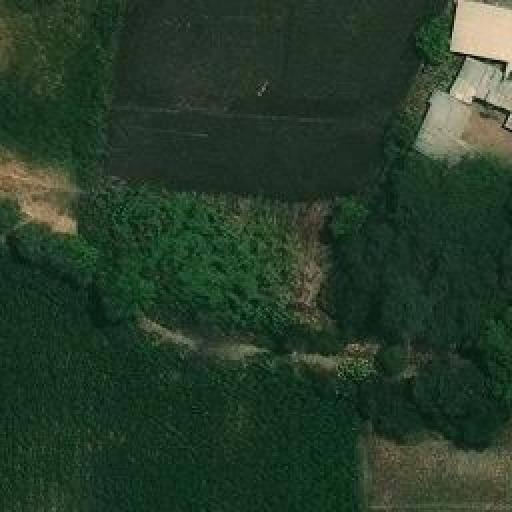manzanas: (409, 0, 510, 207)
